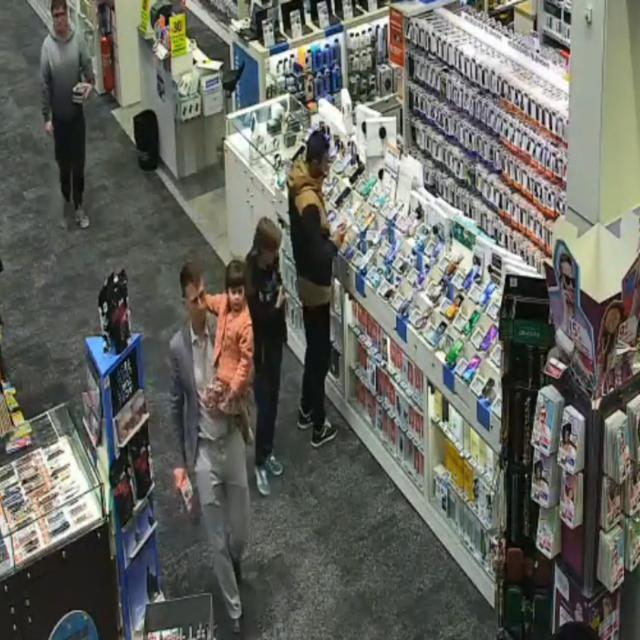article: (329, 207, 355, 235), (179, 479, 194, 515), (72, 82, 89, 95), (72, 94, 84, 99), (72, 98, 83, 103)
hands: (203, 382, 224, 408), (222, 388, 242, 412), (173, 467, 188, 489), (332, 225, 346, 248), (276, 287, 286, 308), (84, 83, 92, 101), (45, 120, 53, 136)
person: (171, 263, 249, 632), (288, 131, 344, 447), (41, 0, 94, 228), (246, 217, 286, 495), (206, 259, 253, 443)
